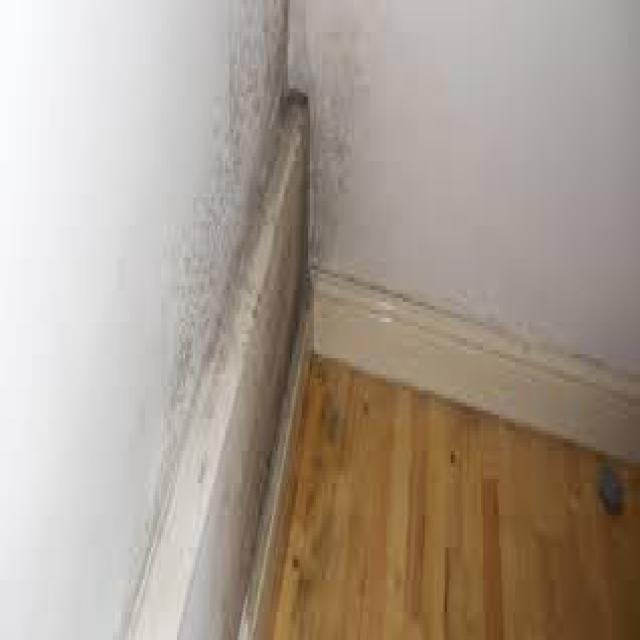dampness: (155, 7, 354, 563)
